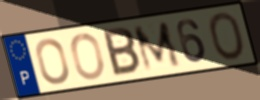6: (176, 18, 208, 65)
B: (101, 26, 142, 79)
M: (131, 19, 184, 74)
O: (207, 11, 248, 63), (34, 37, 72, 87), (69, 32, 107, 82)
